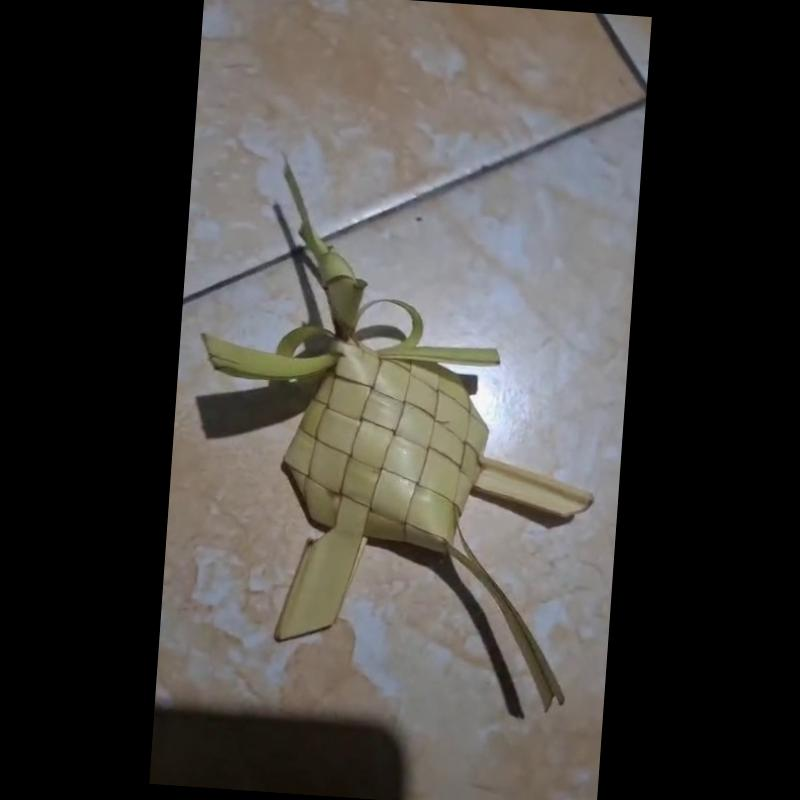Tipat Dampulan: (195, 160, 597, 721)
